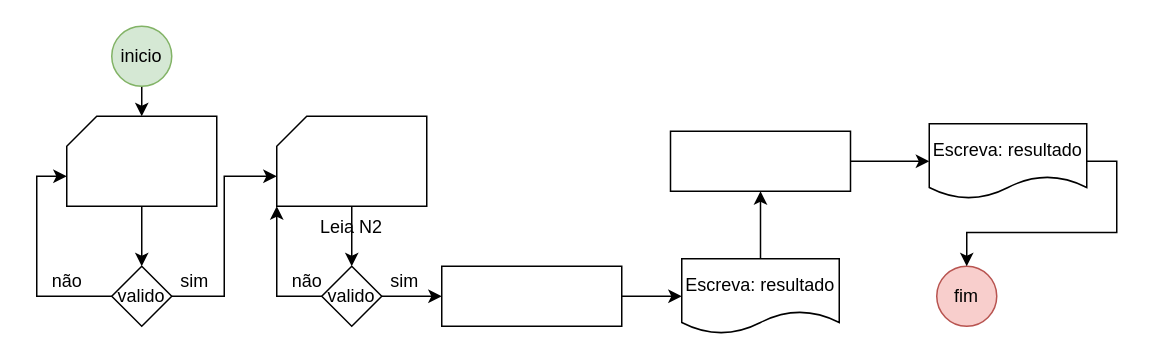
Some shapes in this 1155 by 360 pixel diagram are drawn without their labels. Here are the shapes that lost their labels. From the top down, the box of each, then its label:
(65, 115, 217, 206): Leia N1
(669, 130, 850, 191): resultado * N1
(440, 265, 622, 326): N1 + N2
